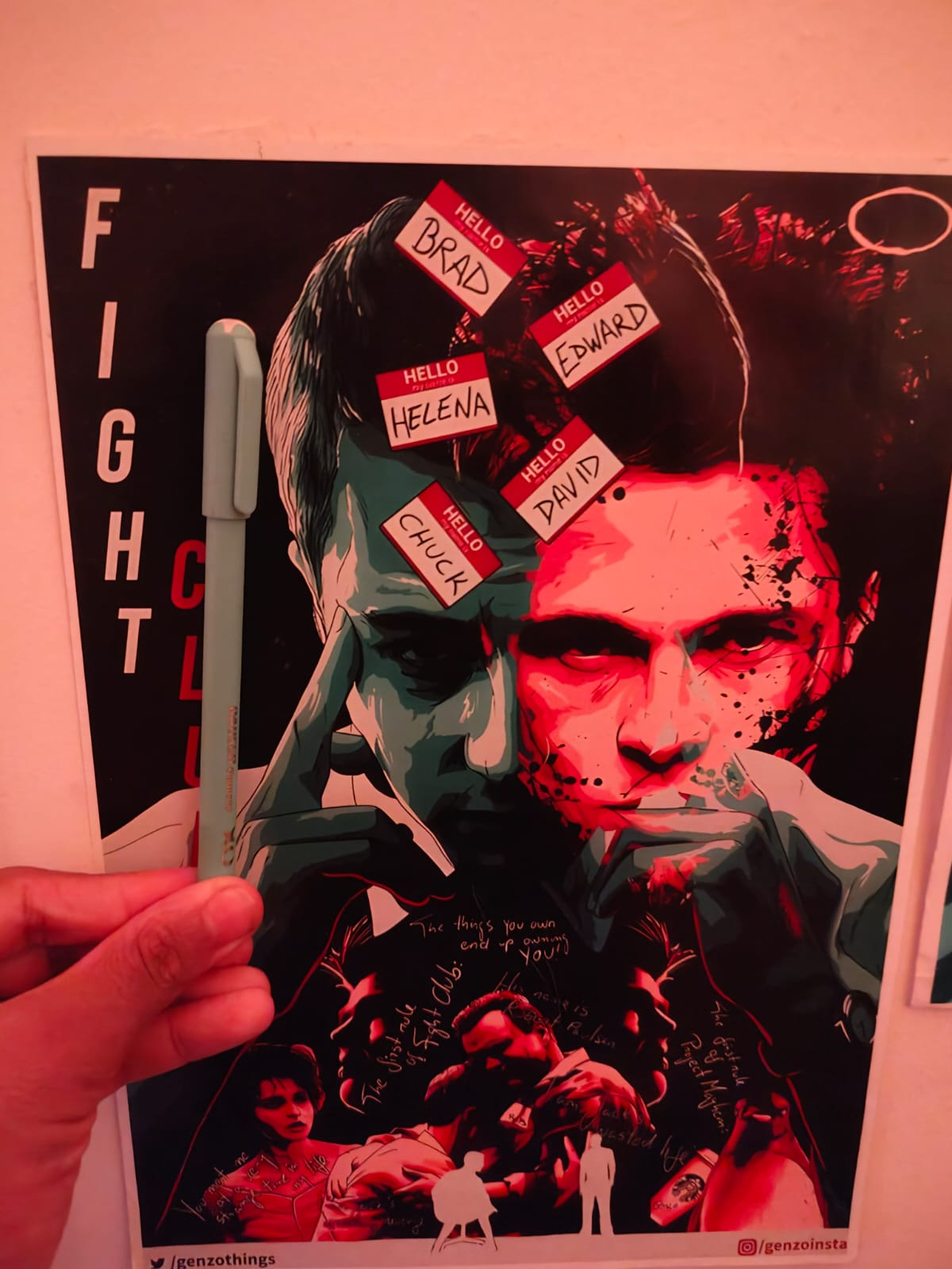pen: (152, 288, 277, 885)
